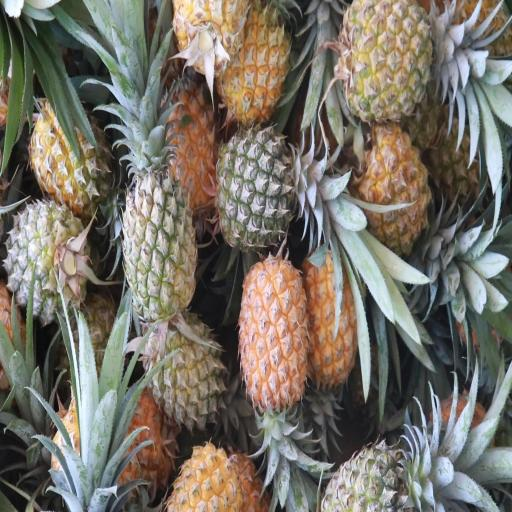------------------------------: (118, 148, 196, 314), (342, 0, 432, 116), (140, 308, 225, 423), (25, 100, 110, 204)
Pineapple - v8 v1: (238, 243, 310, 401), (357, 120, 434, 249), (303, 236, 364, 382), (157, 82, 220, 208), (218, 10, 292, 113)
